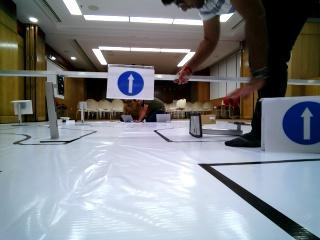straight: (265, 103, 320, 151), (106, 66, 153, 101)
